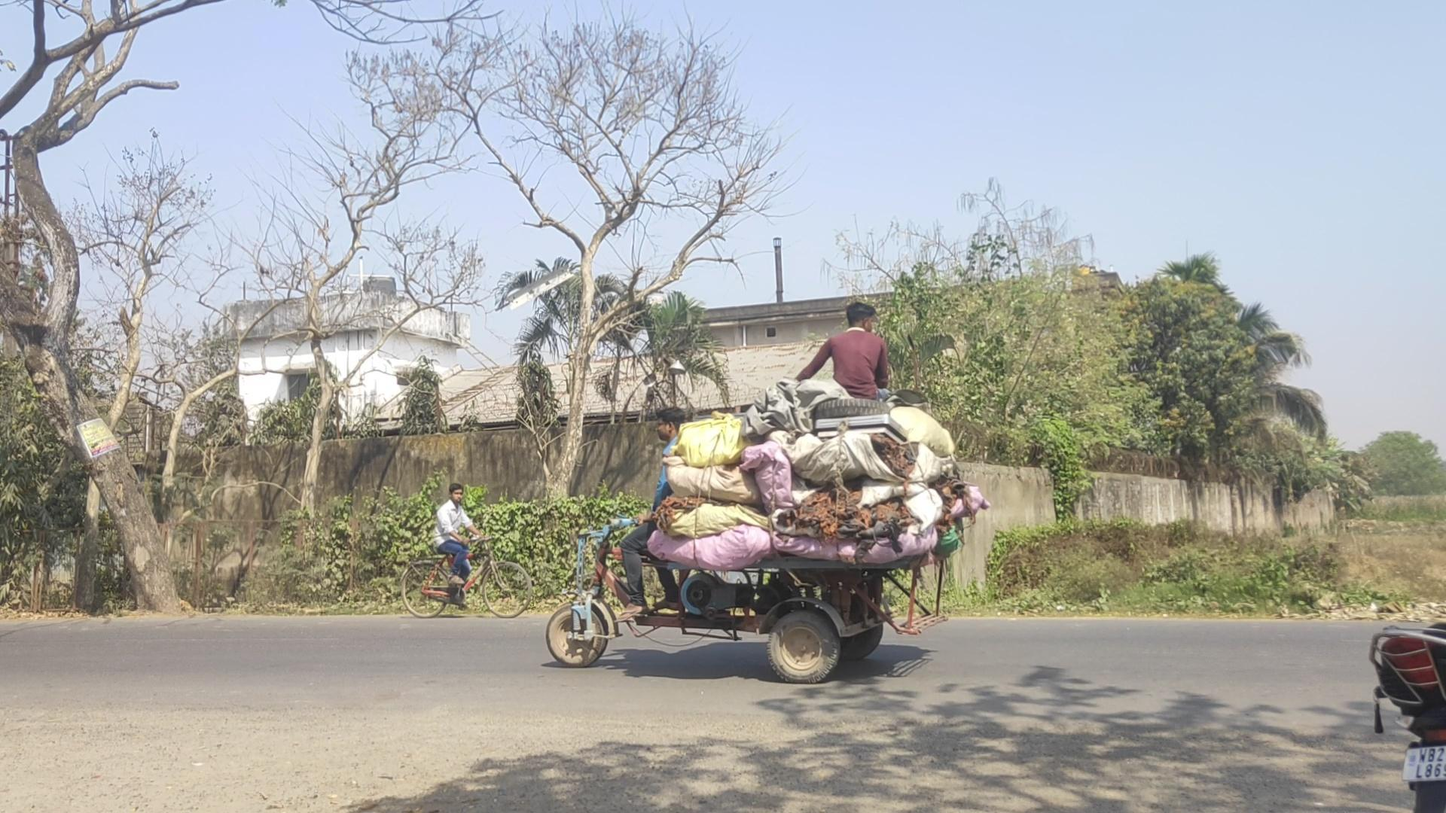bike: (400, 483, 532, 620)
